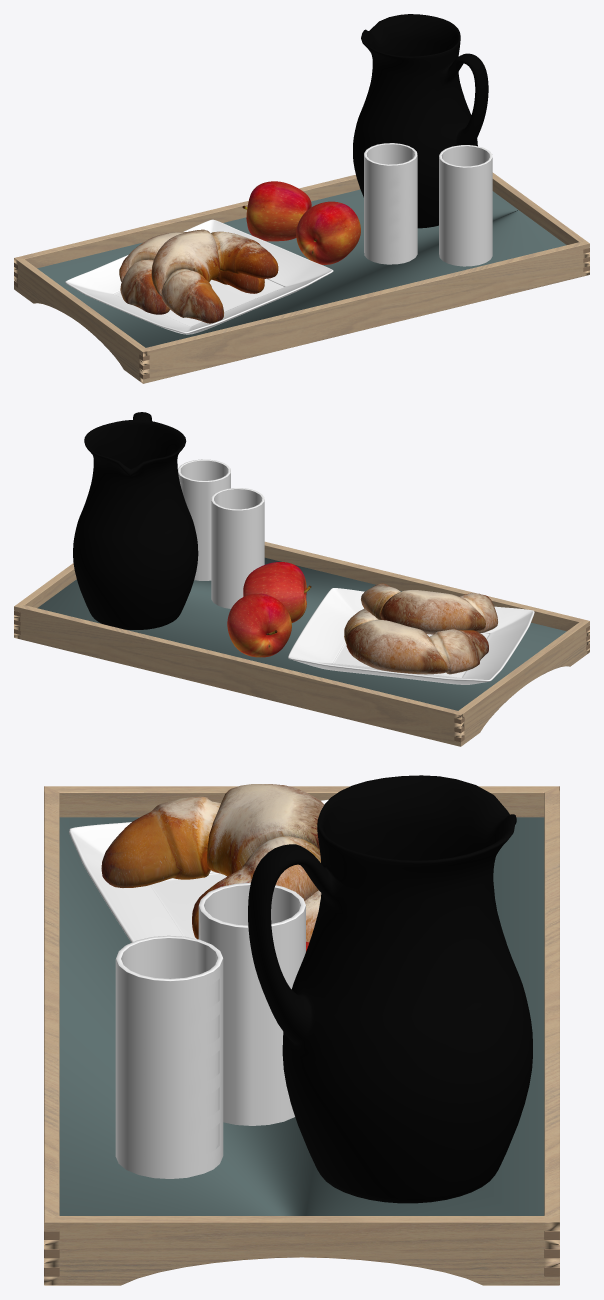
Rendered from breakfast_set.obj.
3 renders of one model, top to bottom at view 1: azimuth 30°, elevation 25°; view 2: azimuth 150°, elevation 25°; view 3: azimuth 270°, elevation 25°, orthographic. The views are drawn at different scales.
Visible parts, largest first — view 1: (null); view 2: (null); view 3: (null).
Boxes of the visible parts, x1,y1,x2,y2 form: (null): [14, 14, 589, 383]; (null): [14, 412, 589, 746]; (null): [44, 775, 559, 1285].
Size of the model in its own units: 66 by 27.12 by 33.
12 materials, 7 textured.
